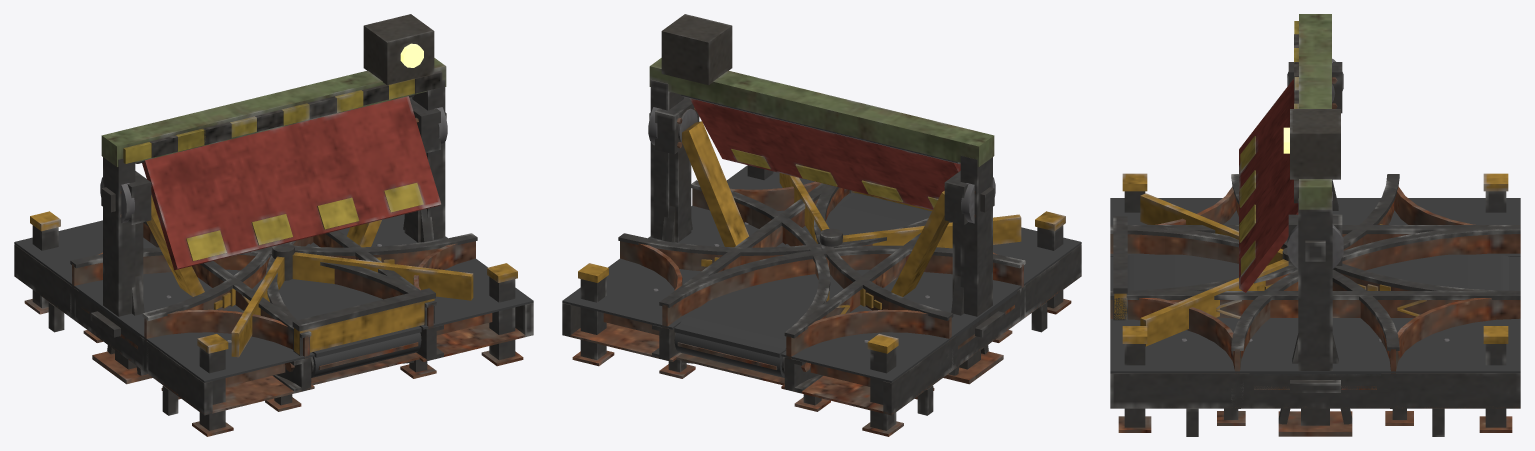
The model's file is feBeltGate_HD.fbx.
The picture shows the model from 3 angles, left to right: view 1: azimuth 30°, elevation 25°; view 2: azimuth 150°, elevation 25°; view 3: azimuth 270°, elevation 25°; orthographic projection. The views are drawn at different scales.
Parts seen in each view (by area): view 1: FeLever_BeltGate, FeBeltExtra_Gantry, FeBeltFill_R, FeBeltBed, FeBeltFill_L, FeJunctionPosts, FeJunctionWedge, FeMerge_R, FeBeltEnd, FeBeltDrive_R, FeMergeRail_R, FeMerge_L (+9 smaller); view 2: FeBeltExtra_Gantry, FeBeltFill_R, FeLever_BeltGate, FeBeltBed, FeBeltFill_L, FeBeltDrive_L, FeCurveRail_R, FeCurveSet_R, FeJunctionPosts, FeBeltDrive_R, FeJunctionWedge, FeCurveSet_L (+9 smaller); view 3: FeBeltFill_L, FeBeltExtra_Gantry, FeLever_BeltGate, FeBeltBed, FeCurveRail_L, FeRail_L, FeJunctionPosts, FeCurveSet_L, FeBeltFill_R, FeMergeRail_L, FeJunctionWedge, FeMerge_L (+9 smaller).
Part boxes in pixels (x1,y1,x2,y2): FeLever_BeltGate: (135,94,440,270); FeBeltExtra_Gantry: (90,14,446,337); FeBeltFill_R: (14,220,314,415); FeBeltBed: (226,244,443,393); FeBeltFill_L: (310,214,533,361); FeJunctionPosts: (24,211,523,436); FeJunctionWedge: (231,243,473,357); FeMerge_R: (79,276,433,411); FeBeltEnd: (292,288,435,356); FeBeltDrive_R: (92,171,204,384); FeMergeRail_R: (70,247,436,328); FeMerge_L: (306,215,475,386); FeBeltExtra_Gantry: (649,14,1005,337); FeBeltFill_R: (781,227,1081,415); FeLever_BeltGate: (681,94,960,209); FeBeltBed: (652,193,931,393); FeBeltFill_L: (562,165,855,361); FeBeltDrive_L: (655,97,748,247); FeCurveRail_R: (659,245,1025,328); FeCurveSet_R: (660,284,1014,411); FeJunctionPosts: (572,165,1071,436); FeBeltDrive_R: (891,171,1003,384); FeJunctionWedge: (779,173,1021,248); FeCurveSet_L: (620,226,793,387); FeBeltFill_L: (1110,318,1520,436); FeBeltExtra_Gantry: (1283,14,1340,392); FeLever_BeltGate: (1239,78,1298,292); FeBeltBed: (1127,254,1508,290); FeCurveRail_L: (1231,225,1520,373); FeRail_L: (1110,291,1520,318); FeJunctionPosts: (1118,173,1512,432); FeCurveSet_L: (1231,257,1520,425); FeBeltFill_R: (1110,198,1520,256); FeMergeRail_L: (1110,226,1399,371); FeJunctionWedge: (1140,193,1288,346); FeMerge_L: (1110,257,1399,425).
Size of the model in its own units: 1.04 by 0.7918 by 1.
3 materials, 1 textured.
